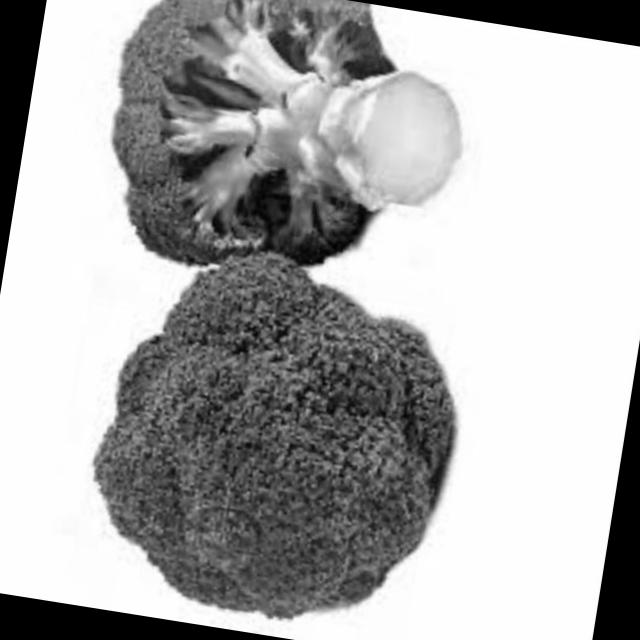bong cai xanh: (38, 211, 491, 640), (59, 0, 491, 319)
